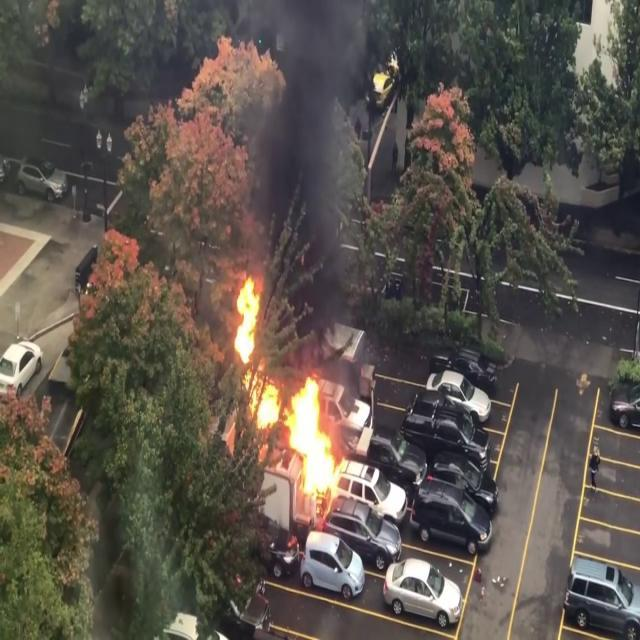Fire: (224, 272, 362, 505)
Smoke: (260, 0, 372, 256)
